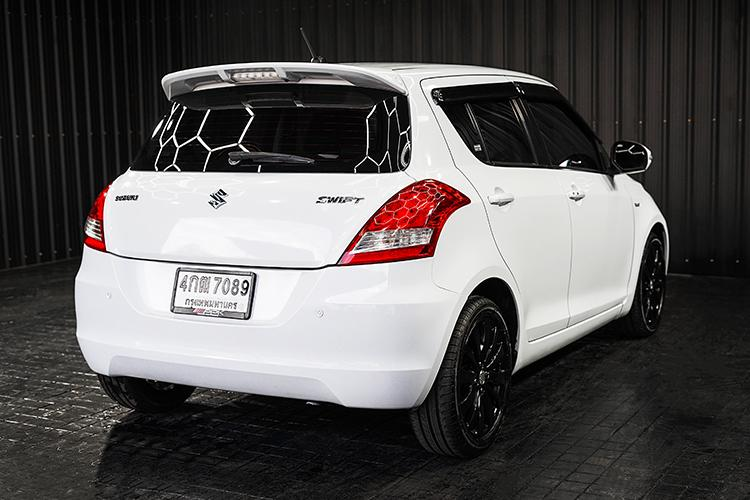license-plate: (167, 264, 261, 325)
